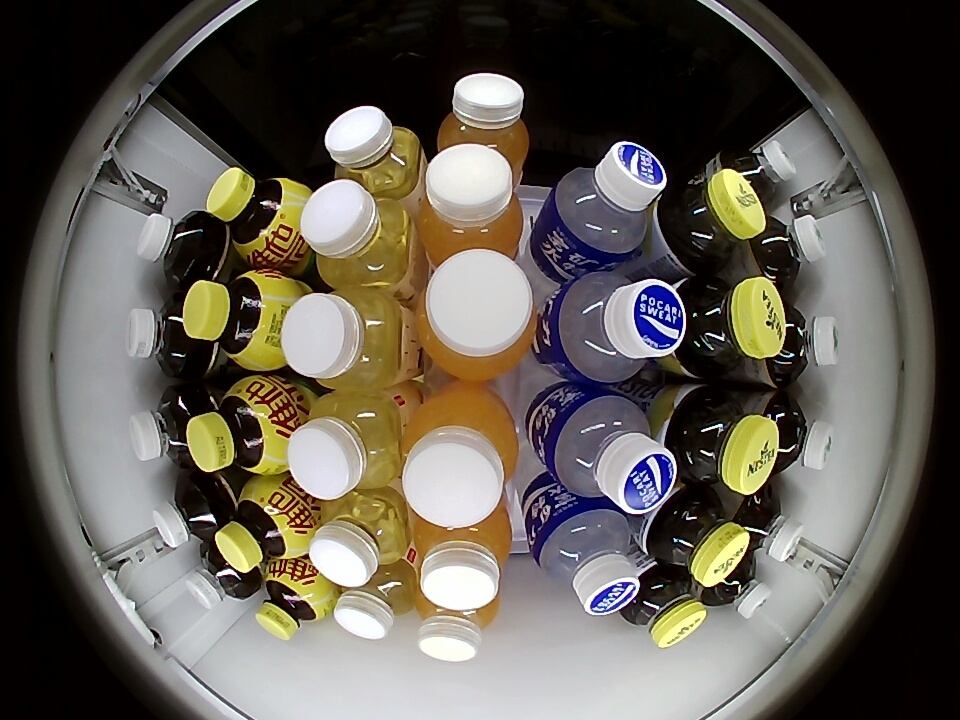baokuangli: (540, 388, 676, 514), (547, 273, 687, 385), (544, 141, 668, 265), (530, 499, 641, 615)
chacui: (664, 385, 778, 493), (658, 166, 765, 274), (675, 275, 786, 378), (647, 489, 749, 587), (621, 567, 708, 649)
chapai2: (288, 391, 405, 499), (284, 288, 407, 390), (301, 179, 415, 289), (309, 490, 412, 587), (325, 105, 425, 199), (334, 561, 417, 640)
damaicha: (758, 393, 835, 475), (764, 304, 841, 386), (749, 214, 826, 287), (732, 488, 804, 563), (719, 142, 796, 207), (706, 554, 771, 618)
weic: (400, 387, 520, 529), (417, 249, 536, 380), (418, 144, 526, 265), (410, 502, 513, 612), (435, 73, 530, 173), (414, 587, 500, 662)
weitaningmeng-bottle: (183, 269, 292, 372), (185, 377, 292, 475), (206, 166, 305, 265), (215, 480, 307, 574), (256, 562, 331, 641)
wulongcha: (125, 296, 198, 377), (136, 211, 213, 285), (129, 388, 198, 467), (153, 477, 222, 548), (184, 543, 254, 609)
